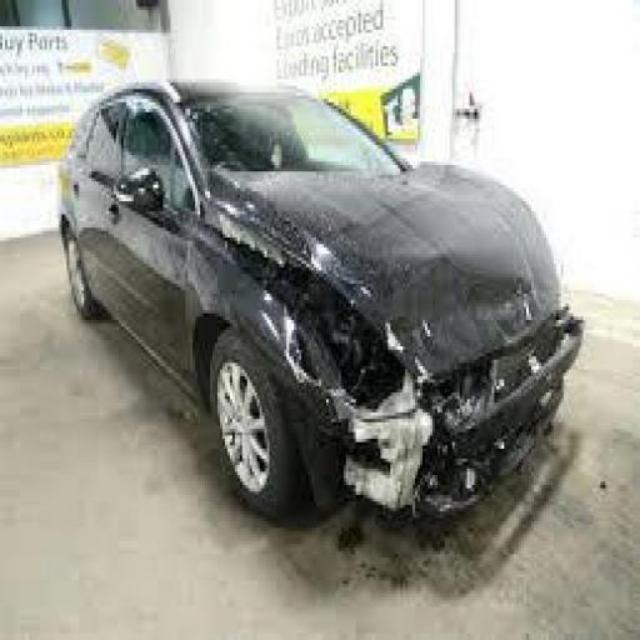no part: (205, 201, 586, 518)
